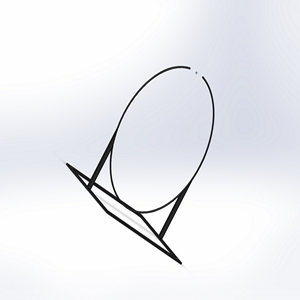circle: (64, 64, 217, 267)
